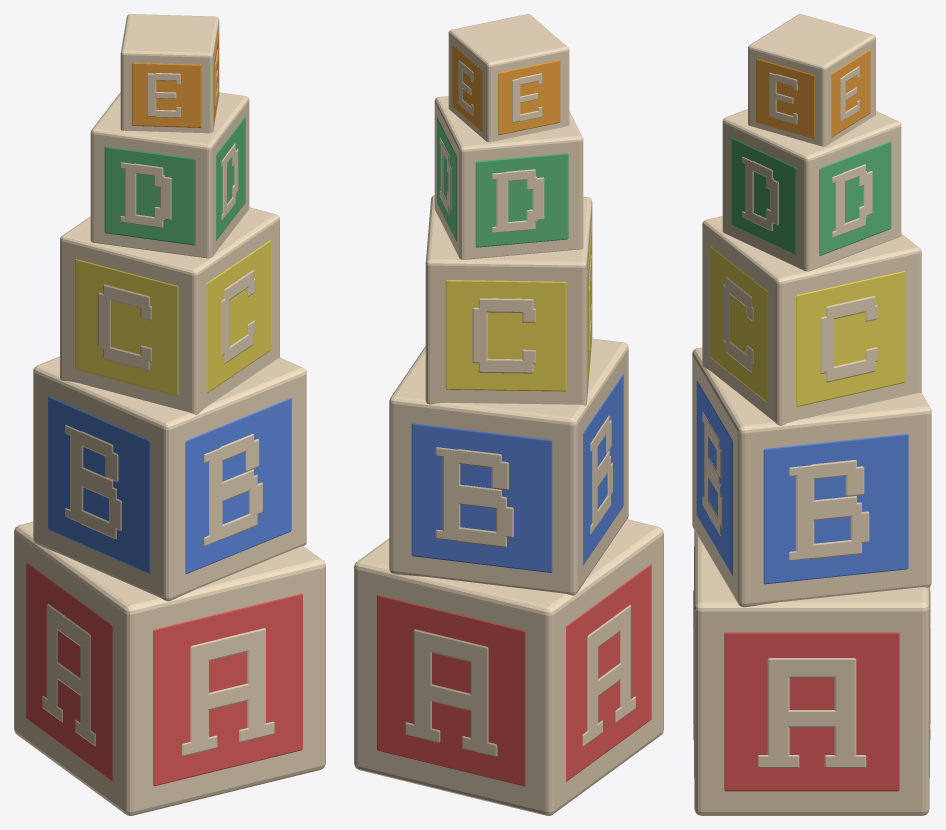
3 renders of one model, left to right at view 1: azimuth 30°, elevation 25°; view 2: azimuth 150°, elevation 25°; view 3: azimuth 270°, elevation 25°, orthographic.
Parts seen in each view (by area): view 1: BlockBottom, BlockLowerMid, BlockMiddle, BlockUpperMid, BlockTop; view 2: BlockBottom, BlockLowerMid, BlockMiddle, BlockUpperMid, BlockTop; view 3: BlockBottom, BlockLowerMid, BlockMiddle, BlockUpperMid, BlockTop.
Boxes of the visible parts, <box> form: BlockBottom: <box>14,522,325,815</box>; BlockLowerMid: <box>33,356,306,601</box>; BlockMiddle: <box>60,207,279,414</box>; BlockUpperMid: <box>90,92,249,258</box>; BlockTop: <box>120,14,219,133</box>; BlockBottom: <box>354,519,663,815</box>; BlockLowerMid: <box>389,338,628,595</box>; BlockMiddle: <box>425,195,592,405</box>; BlockUpperMid: <box>434,96,583,259</box>; BlockTop: <box>448,14,569,142</box>; BlockBottom: <box>693,530,930,815</box>; BlockLowerMid: <box>692,347,931,607</box>; BlockMiddle: <box>702,216,921,425</box>; BlockUpperMid: <box>722,109,901,271</box>; BlockTop: <box>748,14,875,146</box>.
Size of the model in its own units: 0.1018 by 0.342 by 0.1018.
